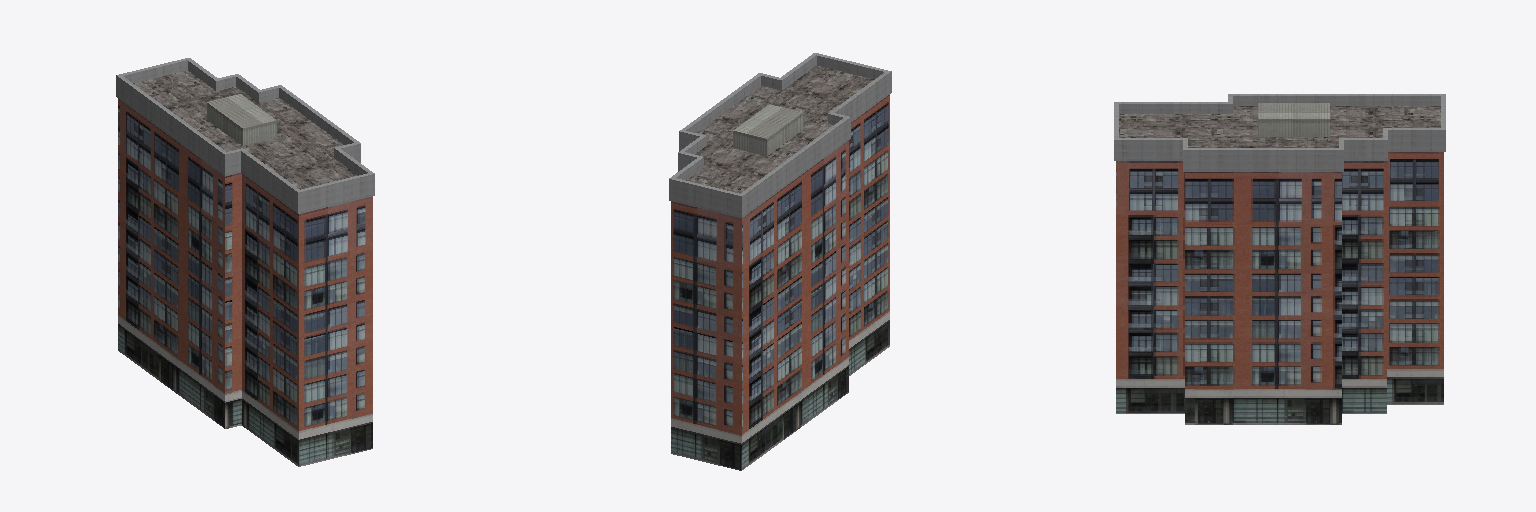
3 renders of one model, left to right at view 1: azimuth 30°, elevation 25°; view 2: azimuth 150°, elevation 25°; view 3: azimuth 270°, elevation 25°, orthographic.
Parts seen in each view (by area): view 1: building_9; view 2: building_9; view 3: building_9.
Boxes of the visible parts, x1=… form: building_9: x1=116, y1=58, x2=374, y2=466; building_9: x1=669, y1=53, x2=891, y2=470; building_9: x1=1114, y1=94, x2=1445, y2=424.
Bounding box in the file's own units: 54.58 × 130 × 138.
1 materials, 1 textured.